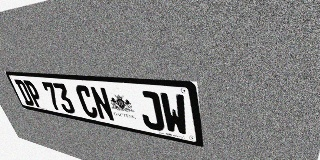3: (52, 83, 76, 114)
7: (41, 82, 64, 112)
C: (74, 85, 100, 119)
D: (14, 79, 35, 106)
J: (136, 90, 165, 132)
N: (89, 86, 116, 122)
P: (23, 80, 45, 108)
W: (159, 92, 189, 136)
